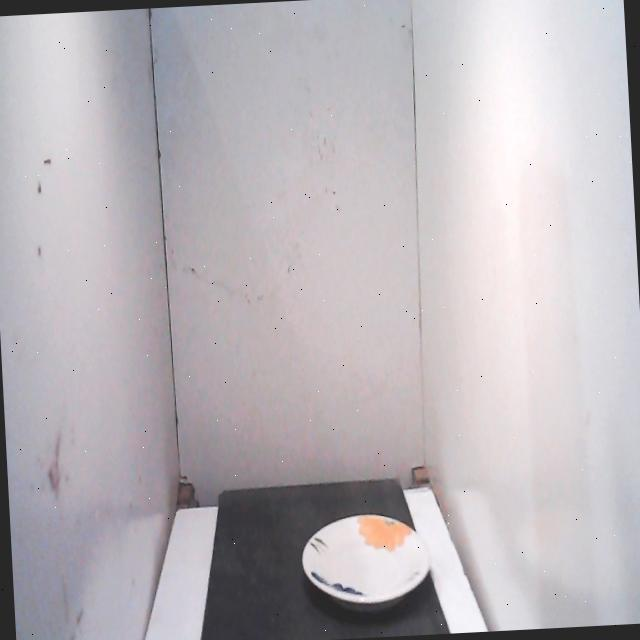vidro: (294, 494, 440, 620)
